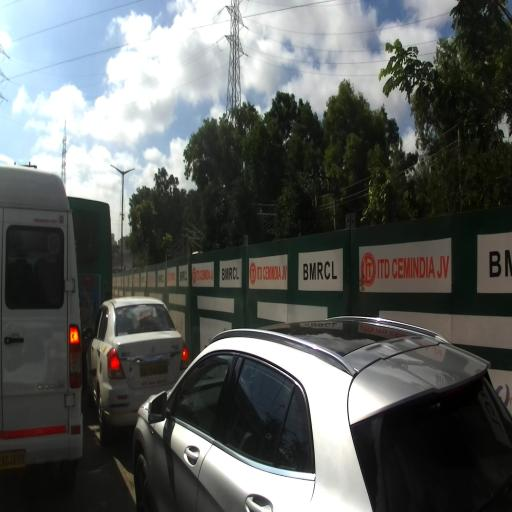street_light_0: (110, 164, 124, 178), (122, 168, 136, 177)
